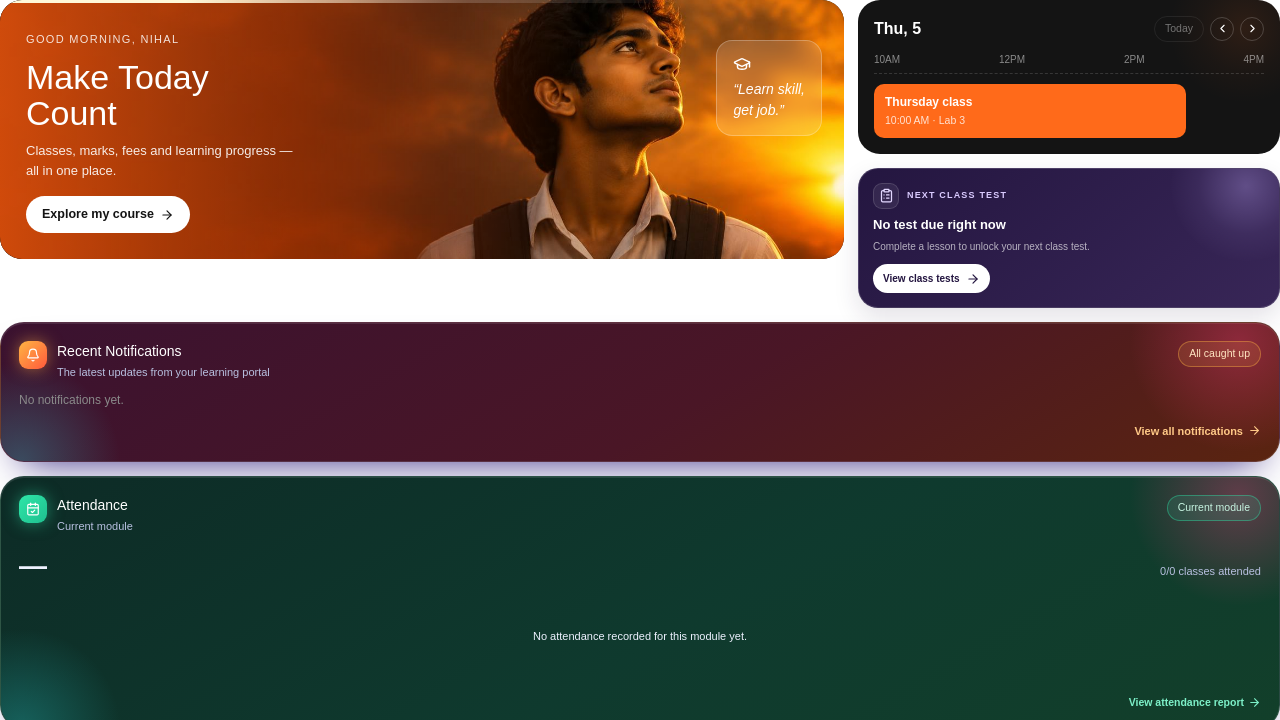
dashboard schedule navigation › moves between scheduled days and returns to today
The width and height of the screenshot is (1280, 720).
Check: the text "Thu, 5" is shown, box [874,17,921,41]
Check: the text "Thursday class" is shown, box [885,93,972,111]
Click the button named "Previous day" at (1222, 29), box [1210,17,1234,41]
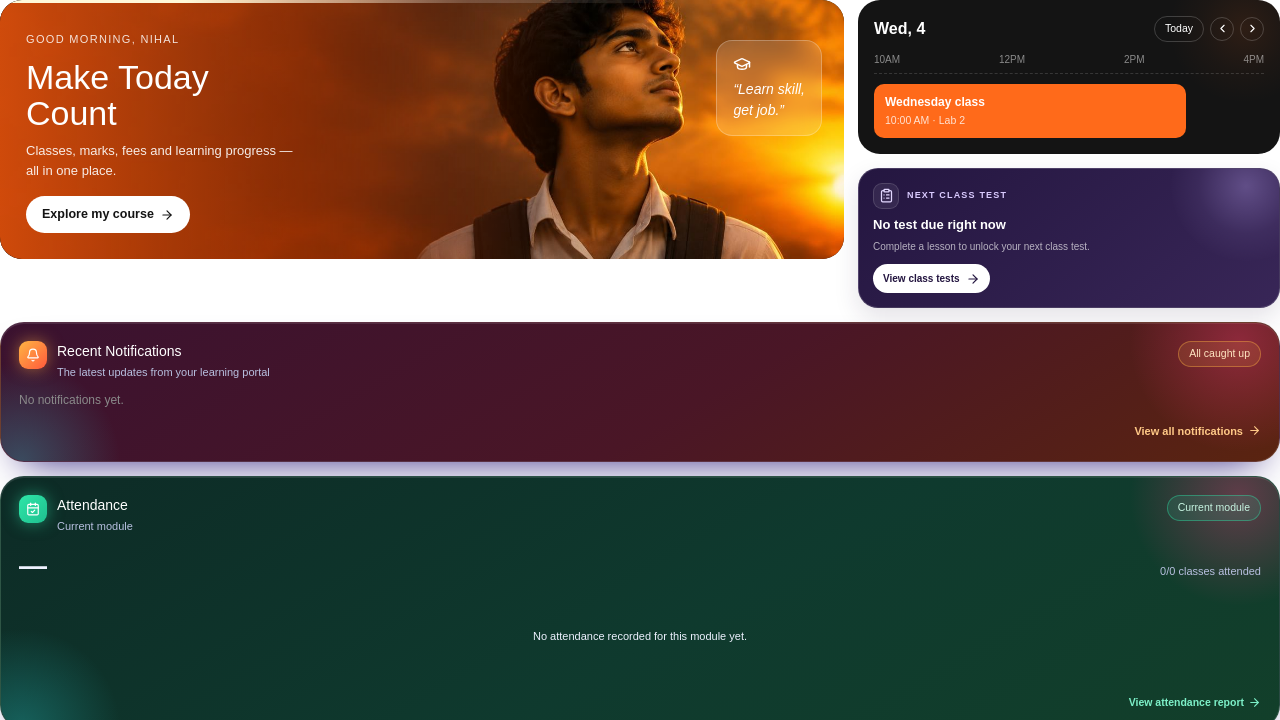
Check: the text "Wed, 4" is shown, box [874,17,925,41]
Check: the text "Wednesday class" is shown, box [885,93,985,111]
Click the button named "Previous day" at (1222, 29), box [1210,17,1234,41]
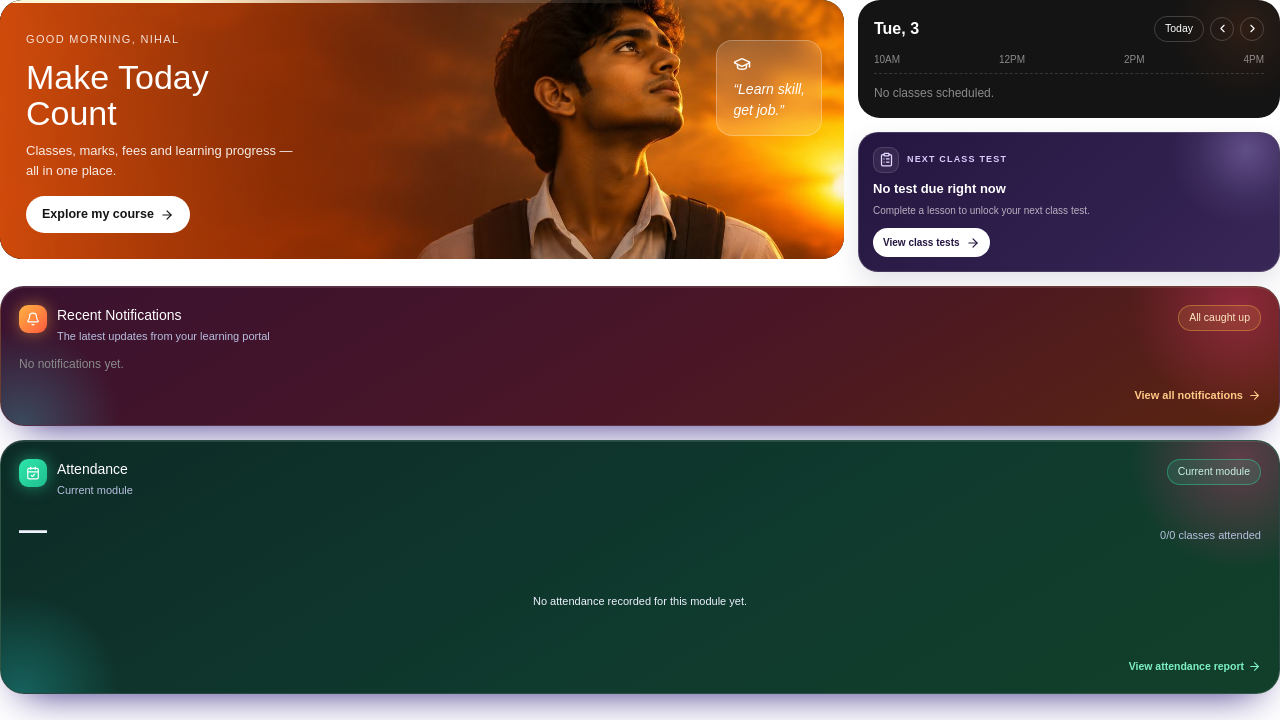
Check: the text "Tue, 3" is shown, box [874,17,919,41]
Check: the text "No classes scheduled." is shown, box [874,86,994,100]
Click the button named "Next day" at (1252, 29), box [1240,17,1264,41]
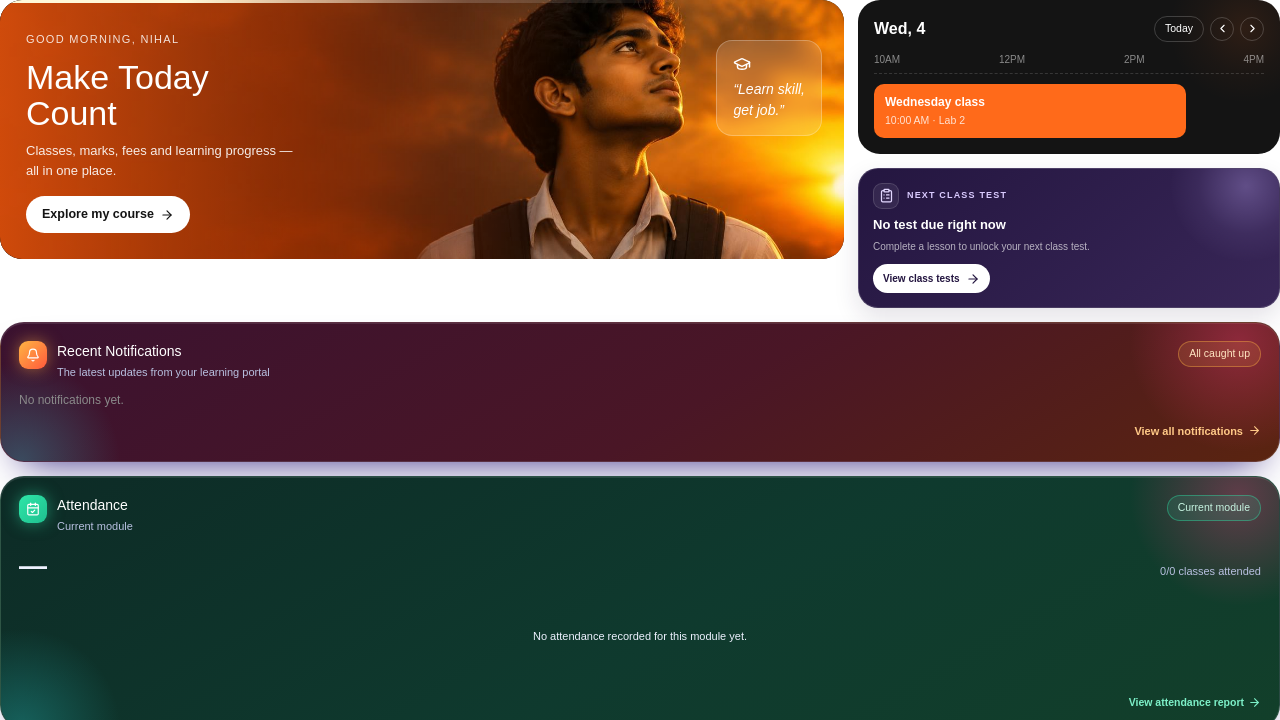
Click the button "Today" at (1179, 29), box [1154,16,1204,42]
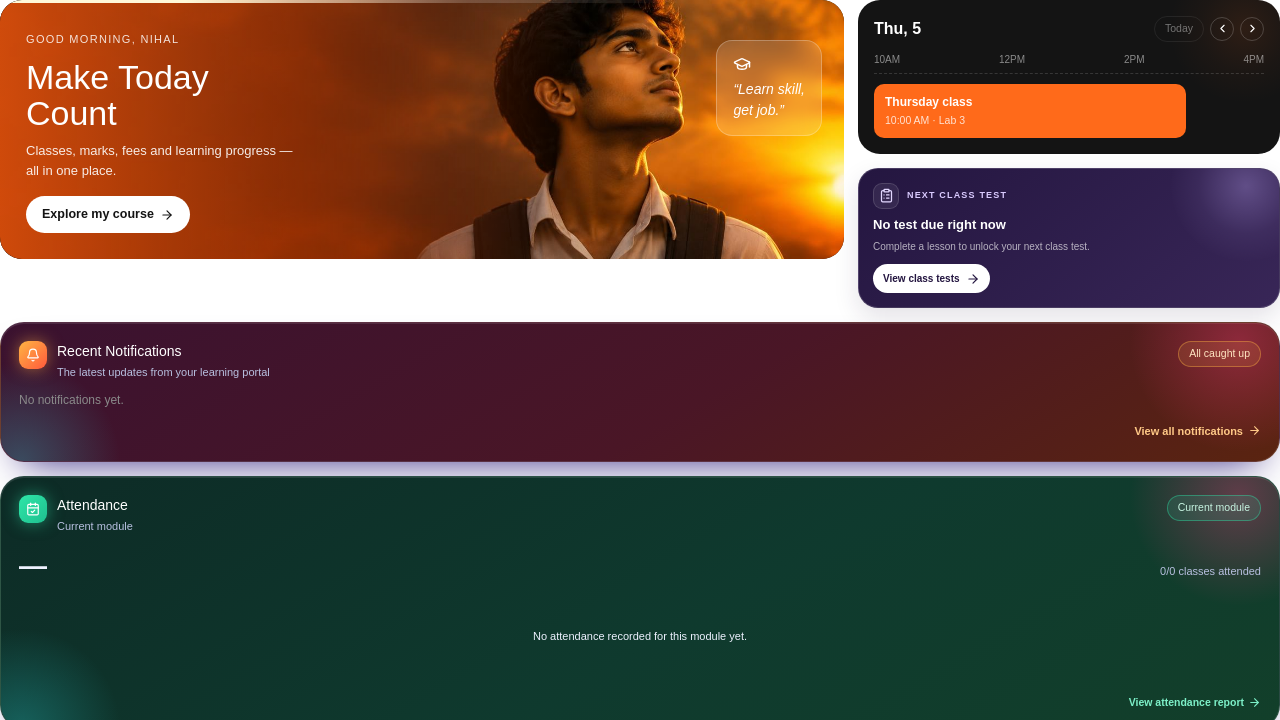
Check: the text "Thu, 5" is shown, box [874,17,921,41]
